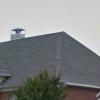Chimney: (6, 22, 29, 47)
